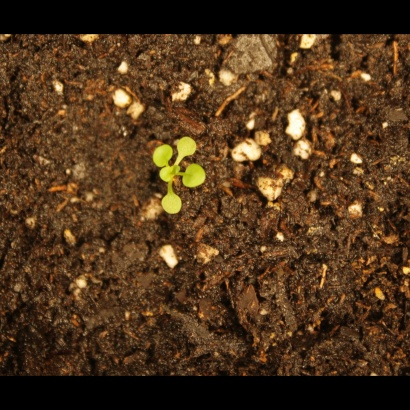leaf: (181, 158, 213, 194), (161, 191, 184, 218), (152, 142, 175, 169), (176, 135, 199, 158), (156, 167, 179, 190)
